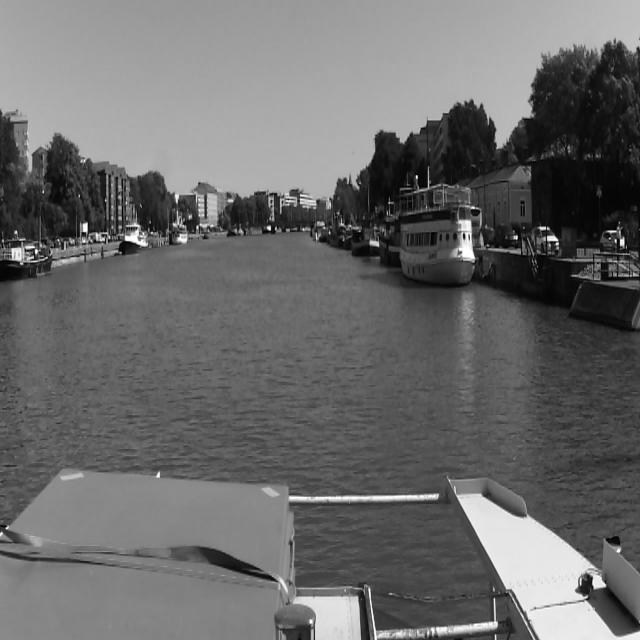ship: (400, 192, 484, 286), (1, 236, 53, 282), (353, 215, 379, 256), (381, 211, 398, 265), (117, 225, 149, 253), (331, 216, 352, 249), (311, 221, 327, 241), (173, 227, 187, 244), (228, 222, 238, 236), (320, 227, 327, 241), (204, 229, 212, 239), (238, 223, 244, 236)
